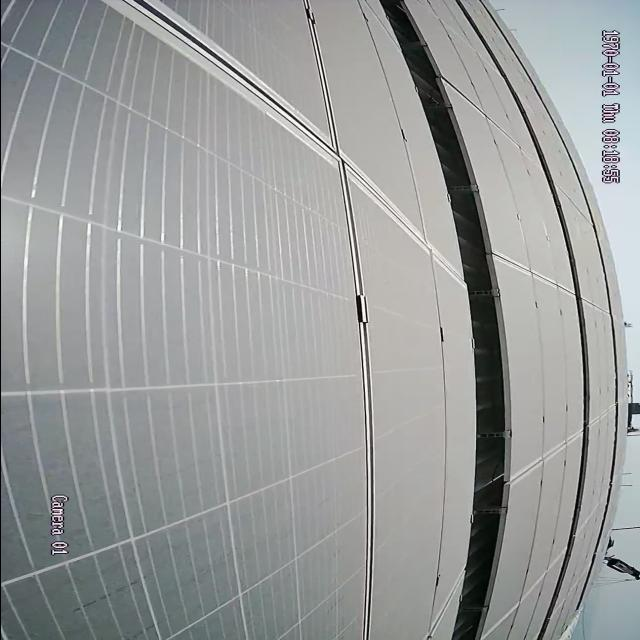interior panel: (100, 0, 458, 631), (496, 249, 568, 297), (518, 431, 575, 485)
outher panel: (376, 0, 508, 640)
